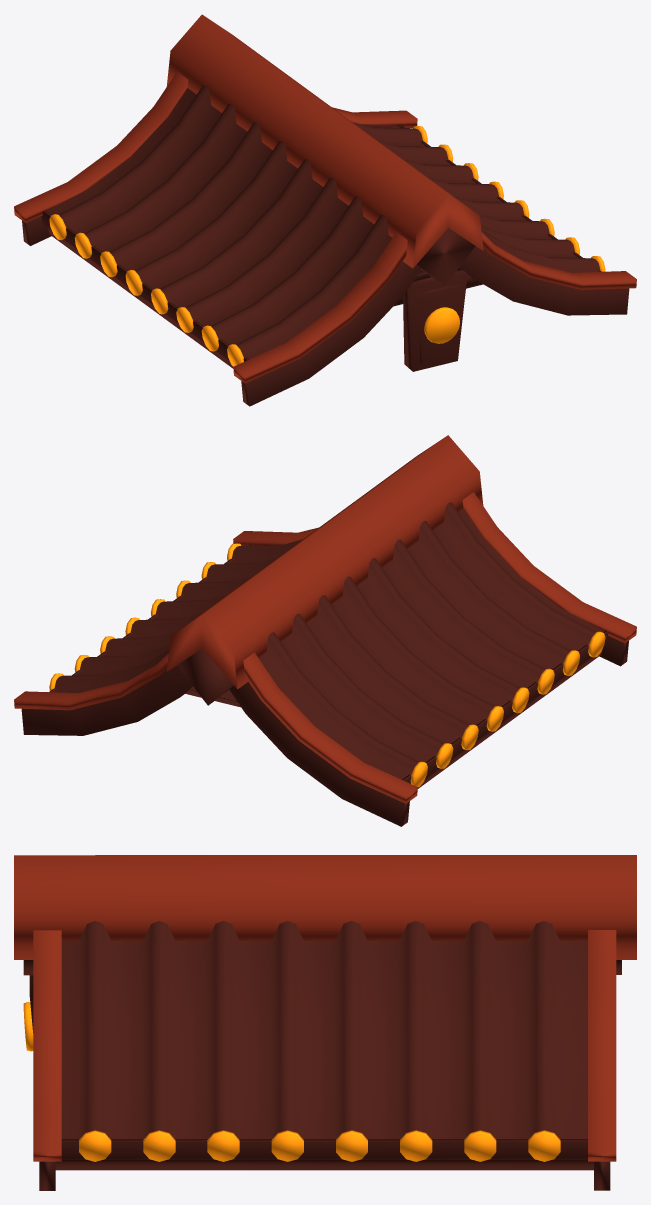
Rendered from 8a1edc58-f1bc-4595-8114-7d2e99fcb460.glb.
3 views of the same model, one above another, from view 1: azimuth 30°, elevation 25°; view 2: azimuth 150°, elevation 25°; view 3: azimuth 270°, elevation 25° (orthographic). The views are drawn at different scales.
Visible parts, largest first — view 1: AsianRoof; view 2: AsianRoof; view 3: AsianRoof.
Part boxes in pixels (x1,y1,x2,y2): AsianRoof: (14, 14, 636, 406); AsianRoof: (14, 435, 636, 826); AsianRoof: (14, 855, 636, 1190).
Size of what is drawn, in the model's own units: 2.87 by 1.27 by 3.12.
Materials: 2 (2 with a texture image).
